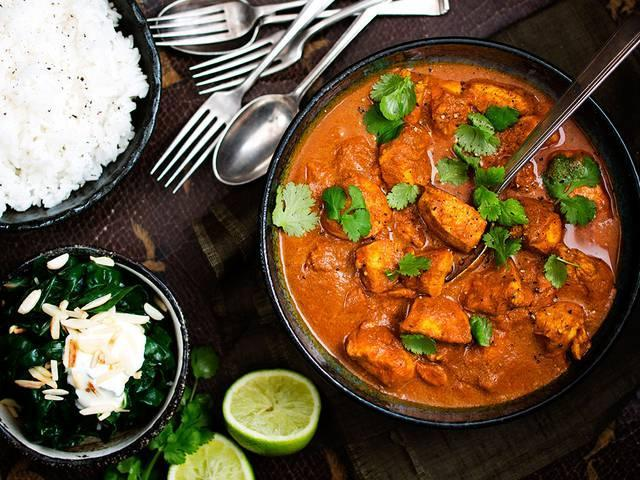chicken: (280, 62, 622, 391)
rice: (3, 0, 171, 243)
